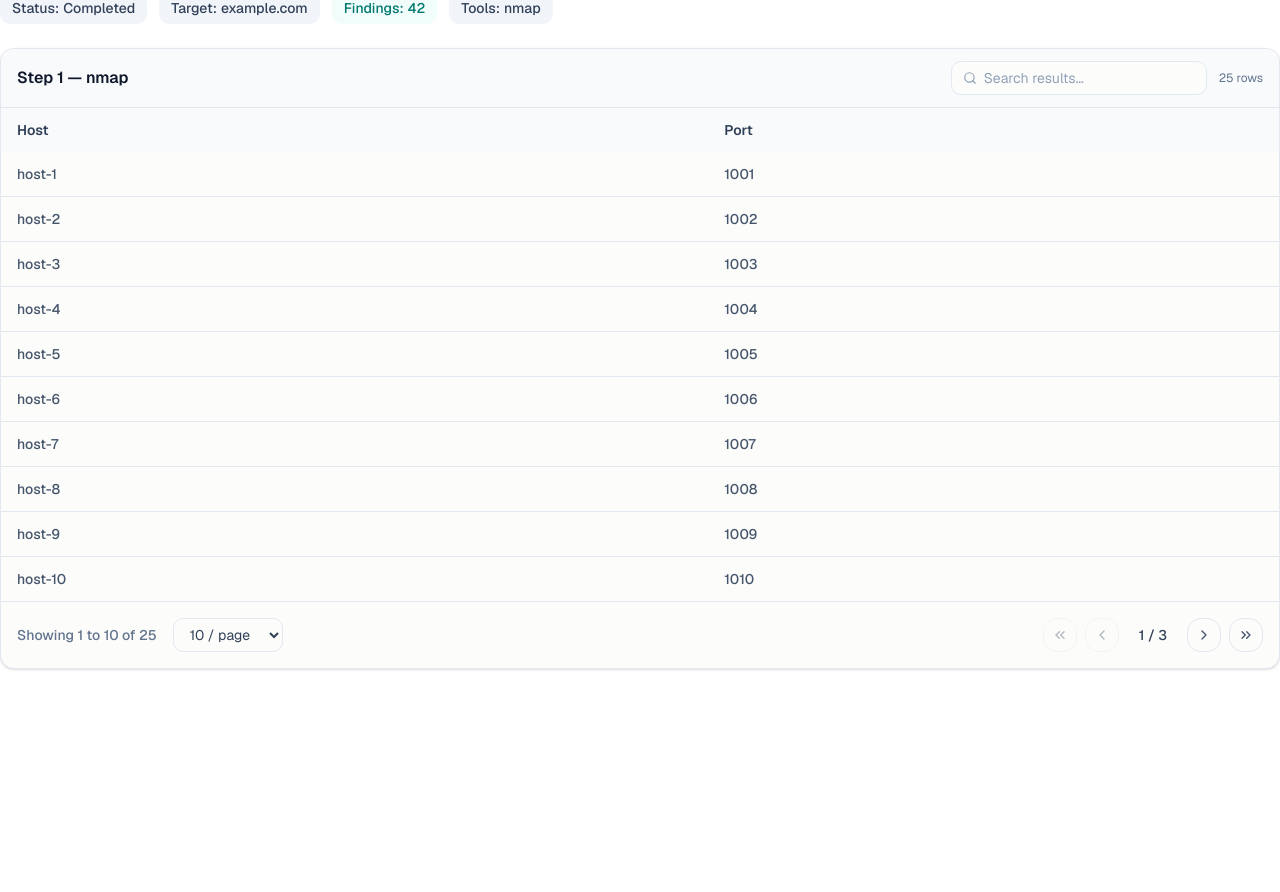
Test: ScanResultsView — pagination requests (Req 5.2, 5.3) › requests page_size=25 and resets to page 1 when page size changes (Req 5.4)
The width and height of the screenshot is (1280, 892).
Move to page 2 first to prove the reset.
Click the button named "Next page" at (1204, 635), box [1187, 618, 1221, 652]
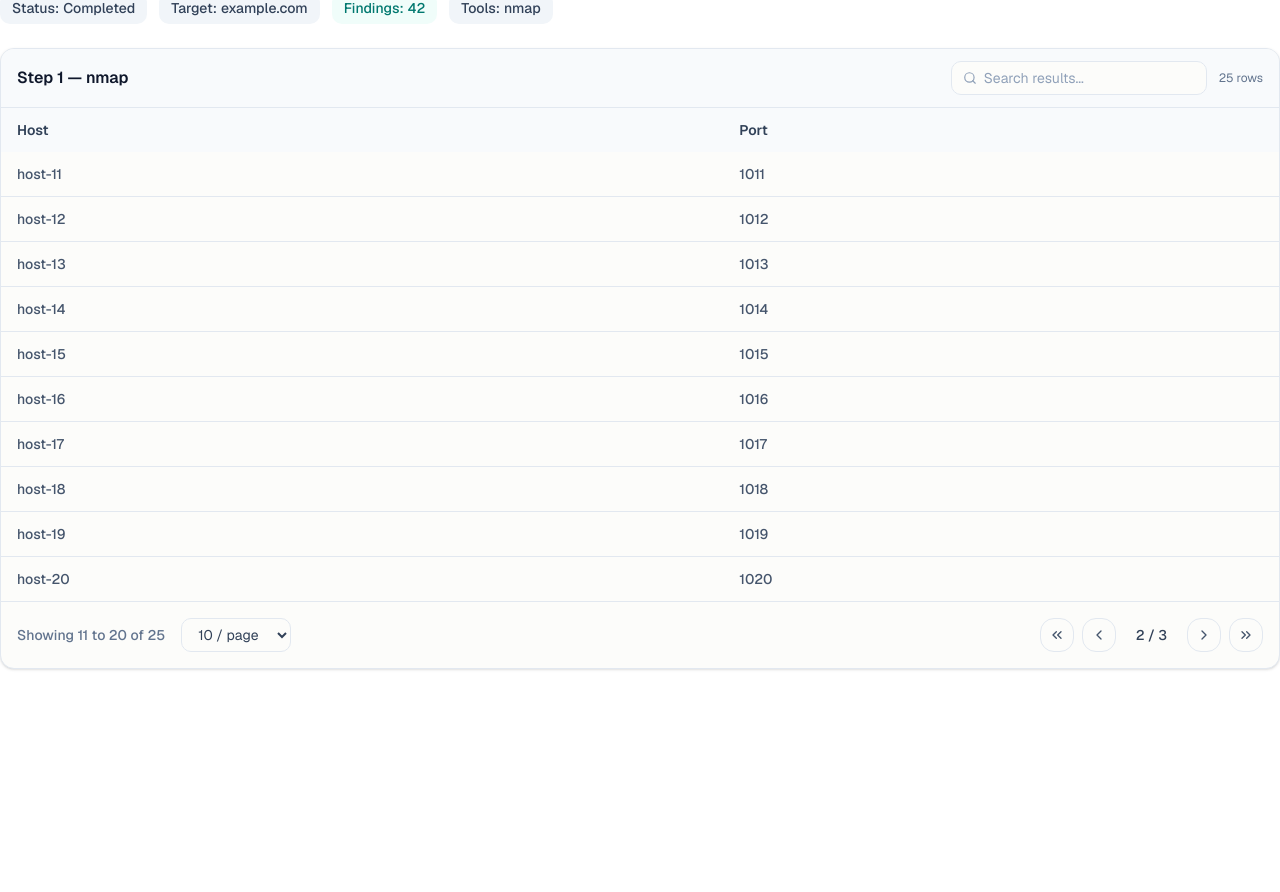
Select "25 / page" in the dropdown named "Page size" at (236, 635), box [181, 618, 291, 652]
(page scrolled)
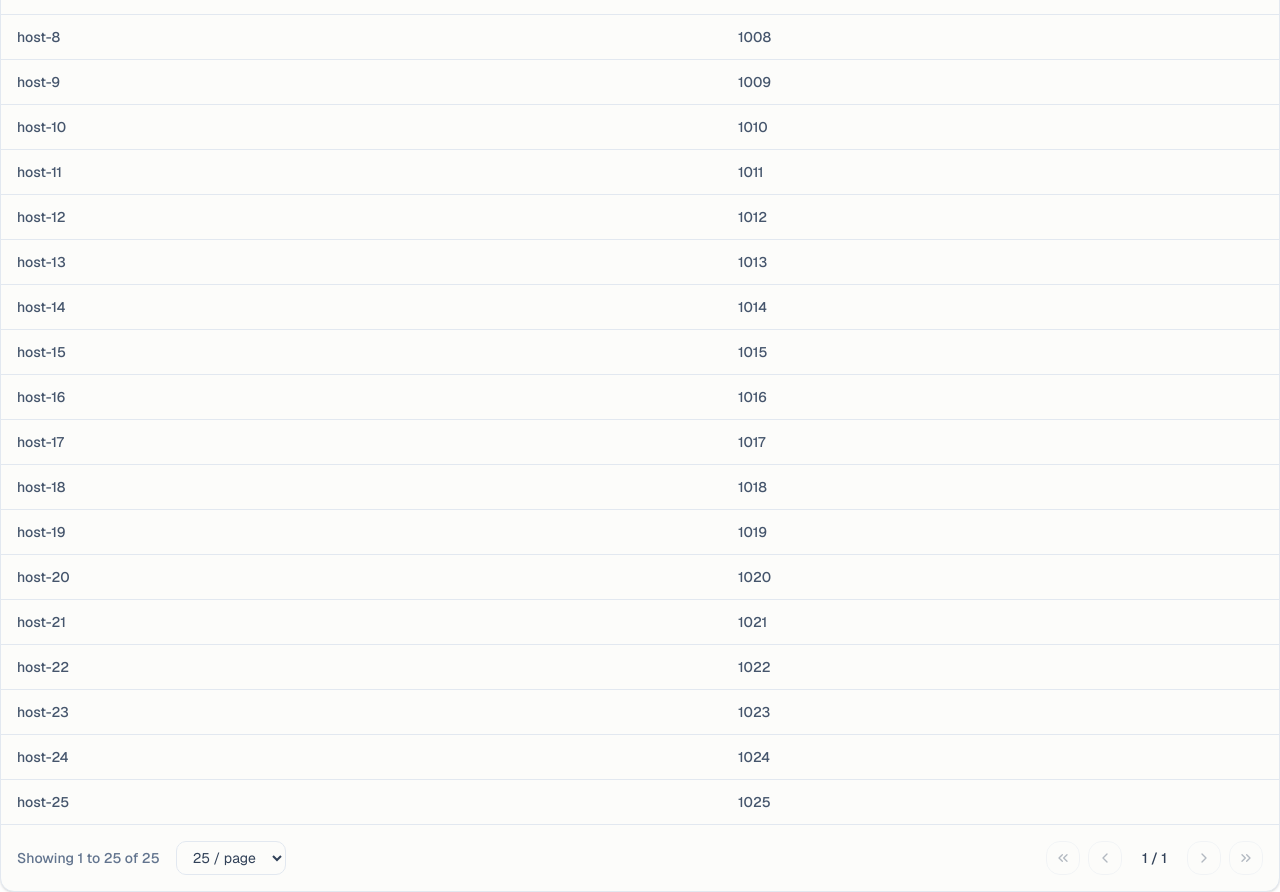
Expected: the text "1 / 1" is shown, [1142, 849, 1167, 867]
